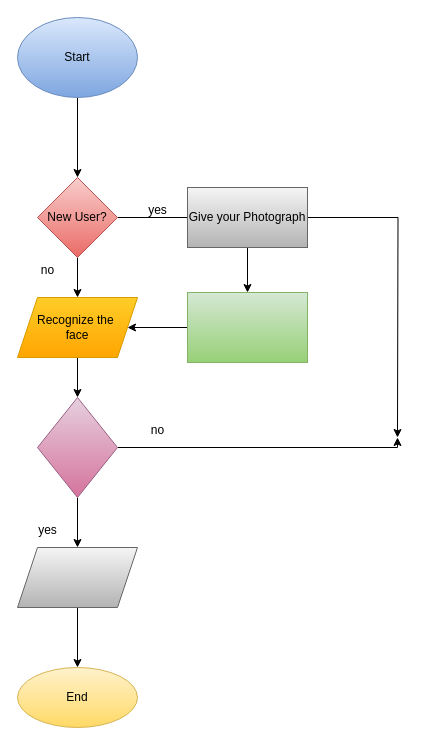
Some shapes in this 424 by 745 pixel diagram are drawn without their labels. The box of each missing label's shape, as (x1, y1, x2, y2) in pixels:
Face Recognized: (36, 396, 118, 498)
store the face data in folder on your name: (186, 292, 308, 362)
Stored in csv file with registration number & date time ofentity: (16, 546, 138, 608)
